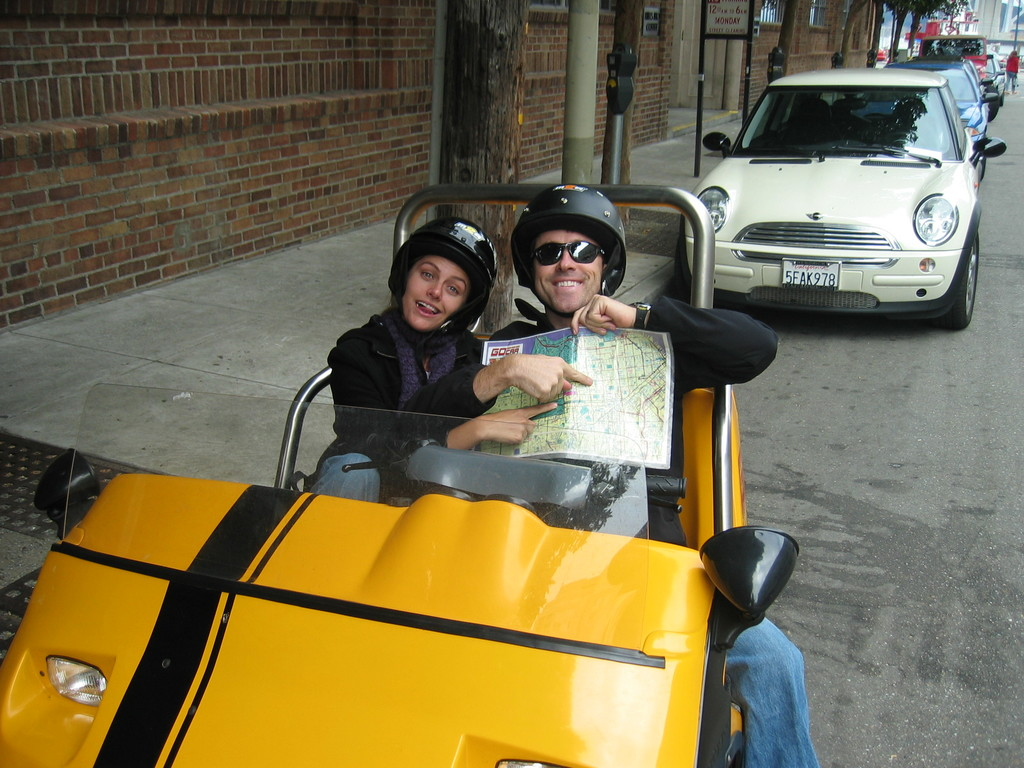Car: (0, 180, 835, 767), (678, 24, 1003, 330)
